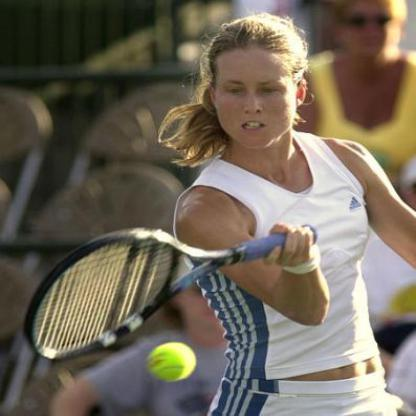face: (214, 24, 303, 152), (338, 1, 400, 62)
